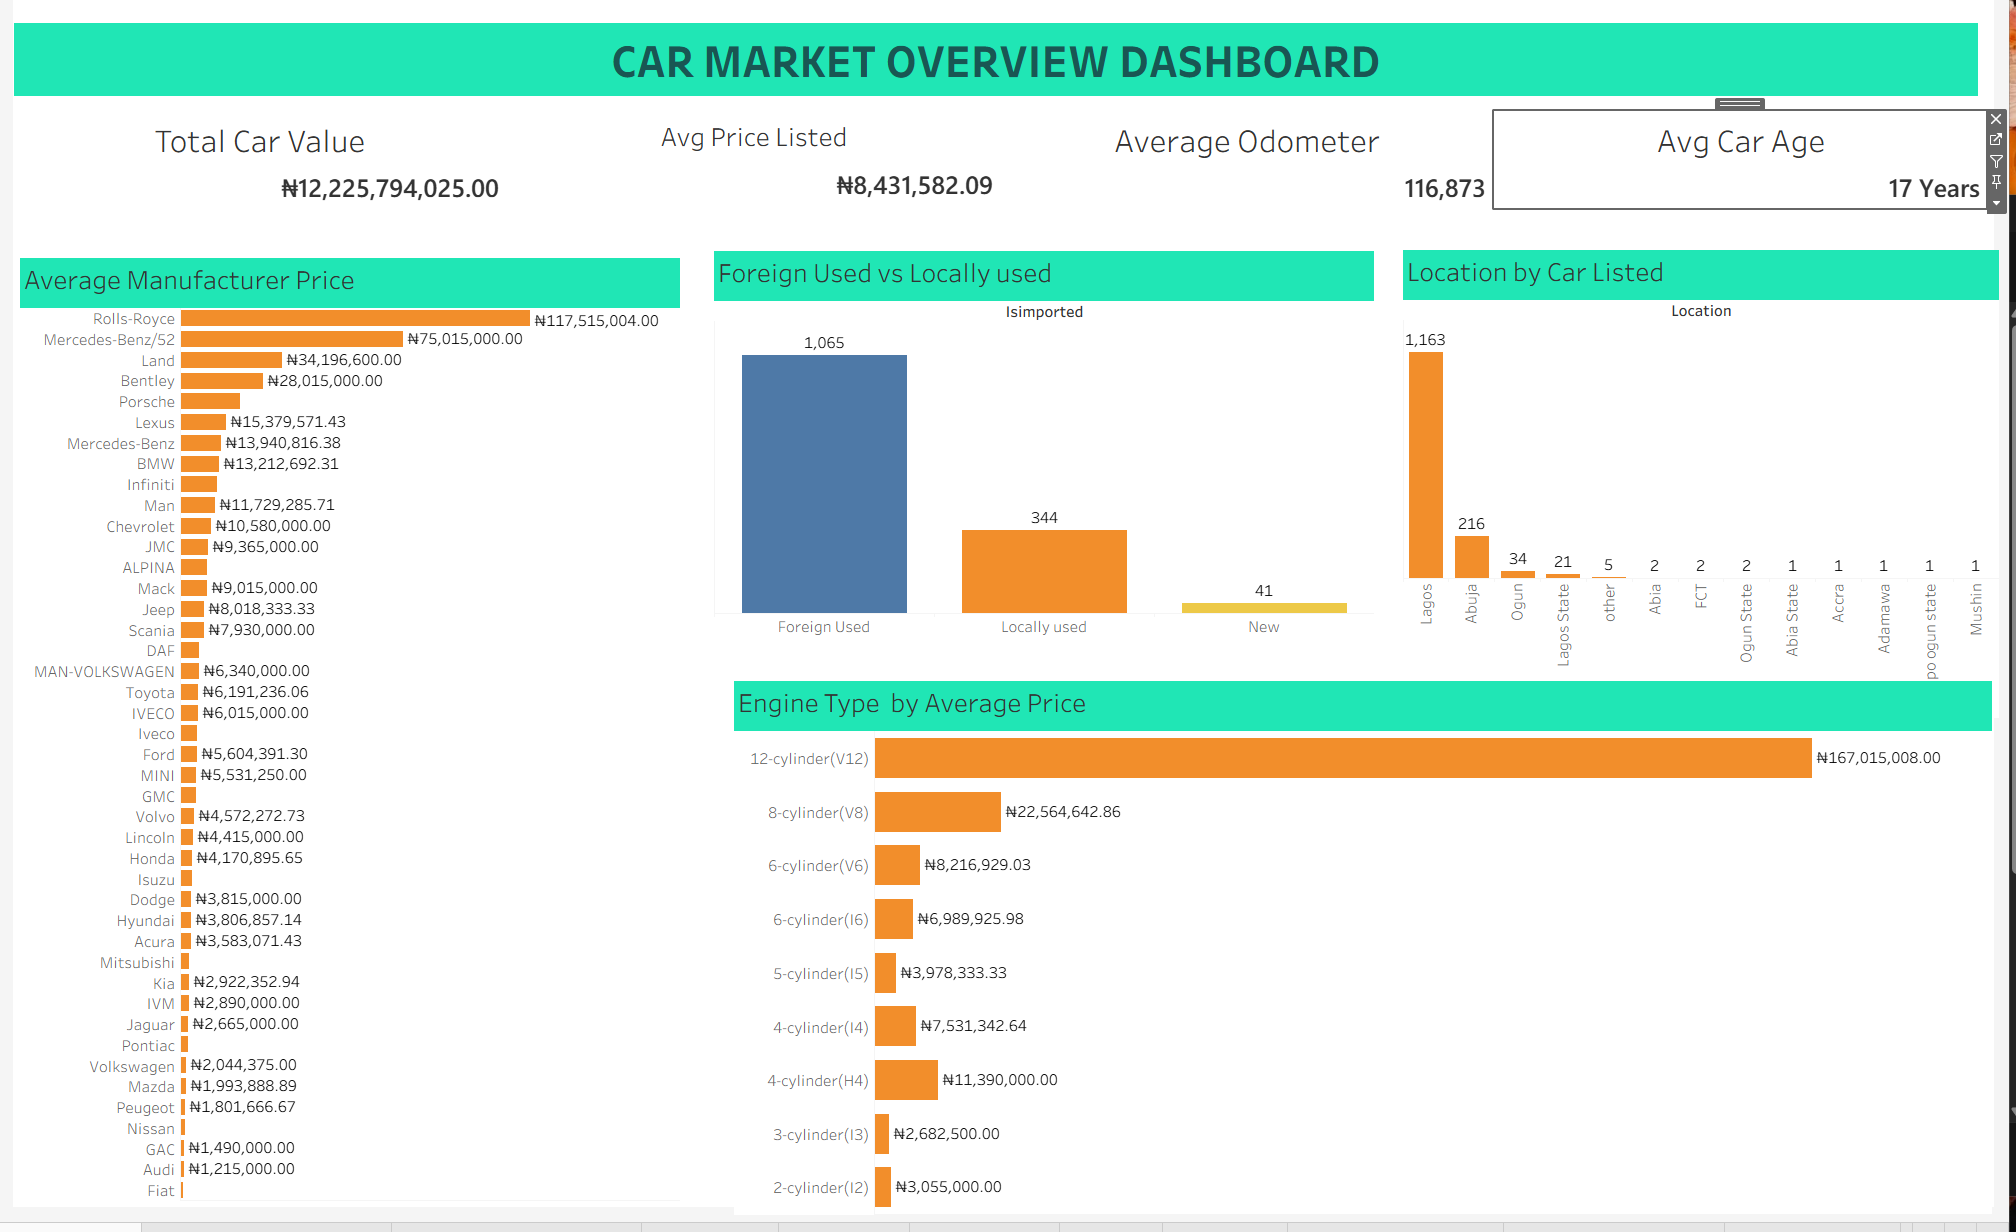

Layout of this report page (visuals, bound fields, positions):
{"tool":"tableau","page":{"name":"CAR MARKET OVERVIEW DASHBOARD","canvas":[1000,1000],"units":"permille","ordinal":1},"visuals":[{"type":"worksheet","title":"Total Car Value","mark":"Automatic","box":[0,92,249.2,80.4]},{"type":"worksheet","title":"Avg Price Listed","mark":"Automatic","box":[249.2,92,249.2,80.4]},{"type":"worksheet","title":"Average Odometer","mark":"Automatic","box":[498.5,92,249.2,80.4]},{"type":"worksheet","title":"Avg Car Age","mark":"Automatic","box":[747.7,92,249.2,80.4]},{"type":"worksheet","title":"Location by Car Listed","mark":"Automatic","rows":["Calculation_1374727532453888"],"cols":["location"],"box":[701.9,207.1,300.7,387.7]},{"type":"worksheet","title":"Foreign Used vs Locally used","mark":"Automatic","rows":["Calculation_1374727532453888"],"cols":["isimported"],"box":[353.9,208,333.3,333.1]},{"type":"worksheet","title":"Average Manufacturer Price","mark":"Automatic","rows":["Calculation_1374727541518344"],"cols":["Calculation_1374727533146113"],"box":[3.5,213.8,333.3,781.3]}]}

Visuals, with their boxes on the dashboard's canvas, which has no fixed pixel size, in thousandths of its width and height (x1, y1, x2, y2). These are canvas units, not pixel positions in the 2016x1232 screenshot, which may show the page scaled, cropped or inside an application window:
"Total Car Value" worksheet: [0,92,249,172]
"Avg Price Listed" worksheet: [249,92,498,172]
"Average Odometer" worksheet: [498,92,748,172]
"Avg Car Age" worksheet: [748,92,997,172]
"Location by Car Listed" worksheet: [702,207,1003,595]
"Foreign Used vs Locally used" worksheet: [354,208,687,541]
"Average Manufacturer Price" worksheet: [4,214,337,995]
